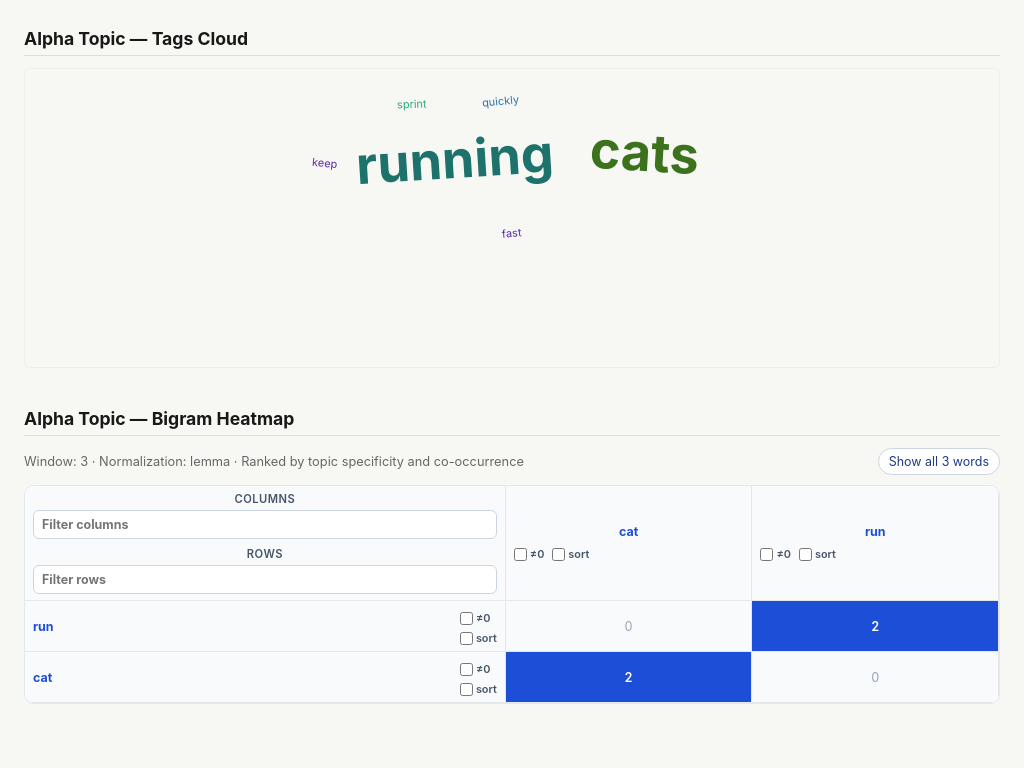
Test case: TopicAnalysisPage › toggles between the default ranked subset and all ranked words
(page scrolled)
Click the button "Show all 3 words" at coordinates (939, 462), box x1=878 y1=448 x2=1000 y2=475
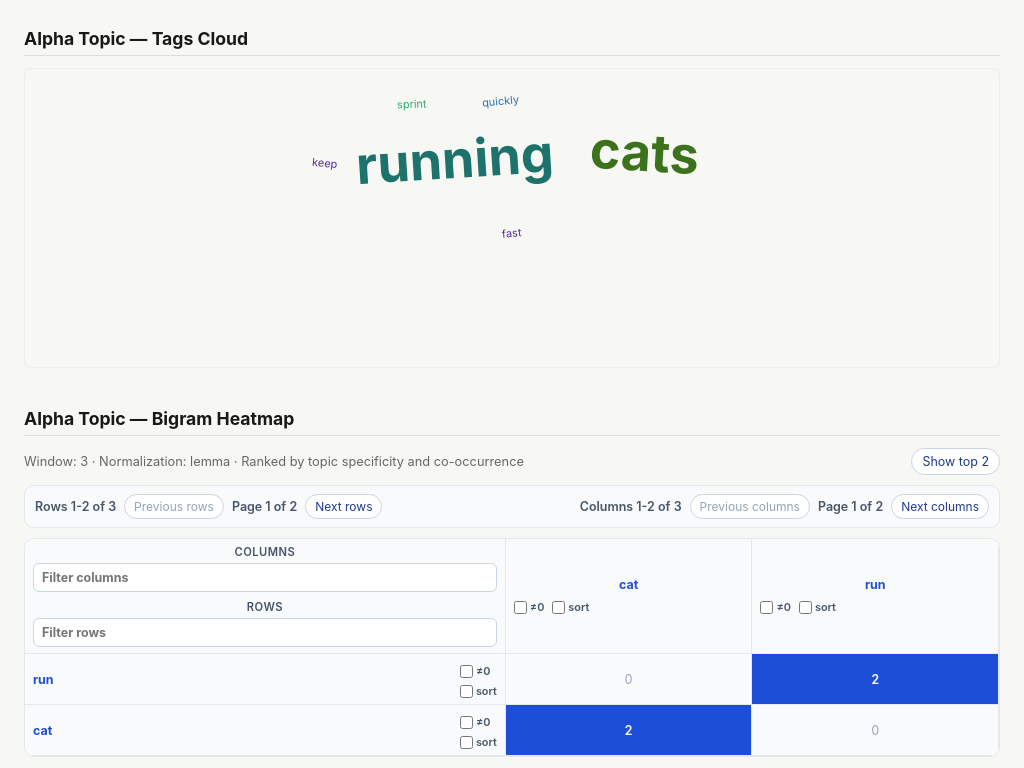
Expected: the link "shared" is not shown
Now the text "Rows 1-2 of 3" is shown, box x1=35 y1=499 x2=116 y2=514
Now the text "Columns 1-2 of 3" is shown, box x1=580 y1=499 x2=682 y2=514
Click the button "Next rows" at coordinates (344, 506), box x1=305 y1=494 x2=382 y2=519
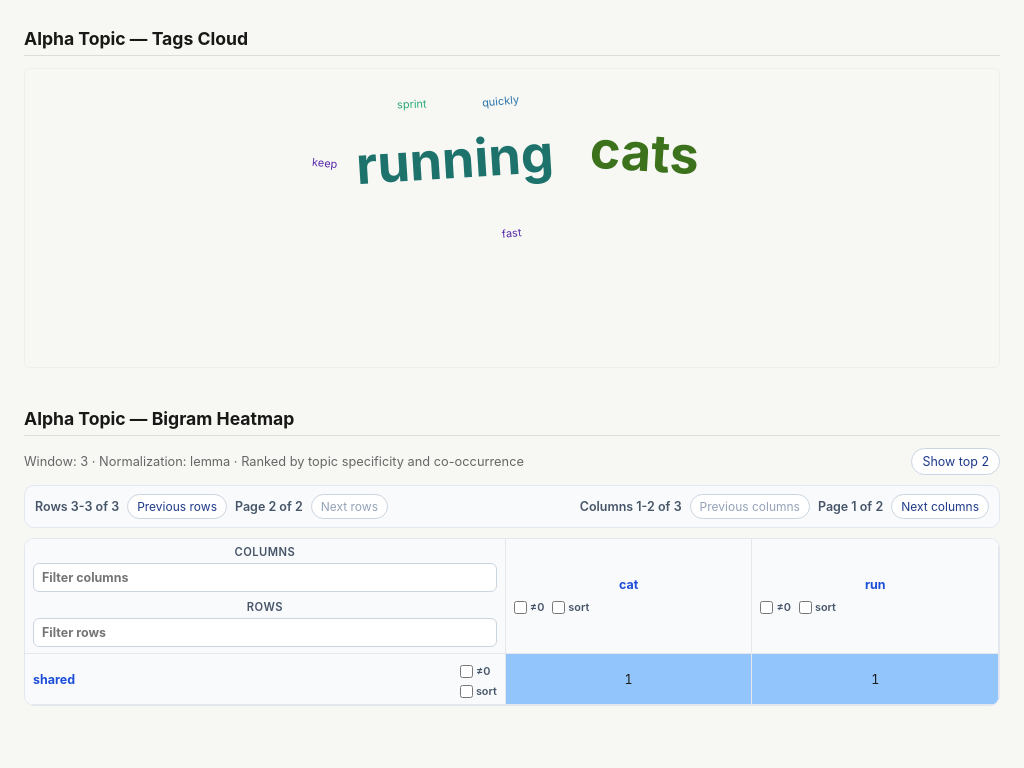
Click the button "Next columns" at coordinates (940, 506), box x1=891 y1=494 x2=989 y2=519
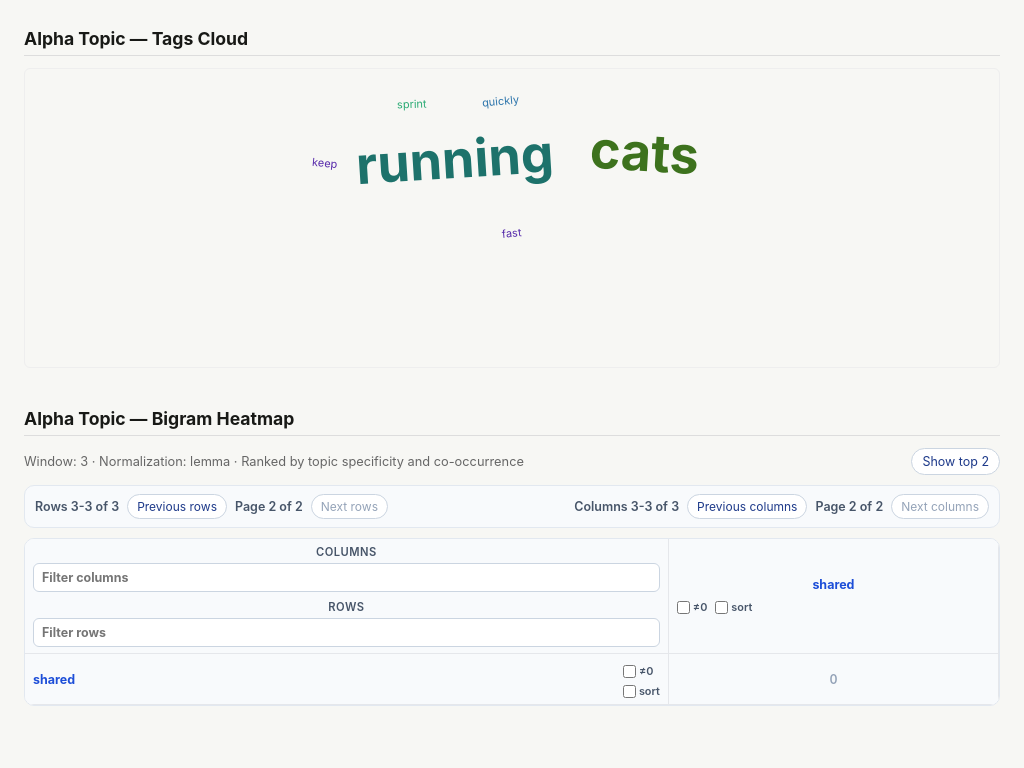
Now the button "Show top 2" is shown, box x1=912 y1=448 x2=1000 y2=475
Now the number of links "shared" is 2, box x1=812 y1=577 x2=854 y2=592; x1=33 y1=672 x2=75 y2=686
